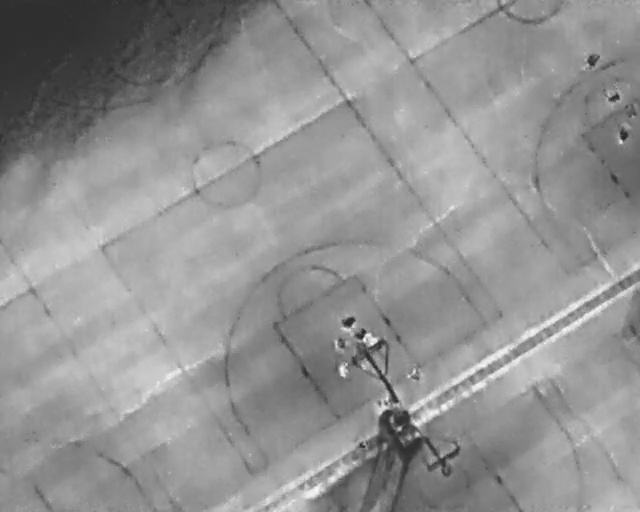Person: (358, 327, 384, 352), (582, 48, 603, 71), (338, 310, 360, 331), (614, 124, 632, 145), (602, 89, 622, 105), (374, 395, 392, 411), (337, 361, 350, 379), (407, 366, 422, 381), (333, 337, 347, 352), (357, 439, 370, 451)
